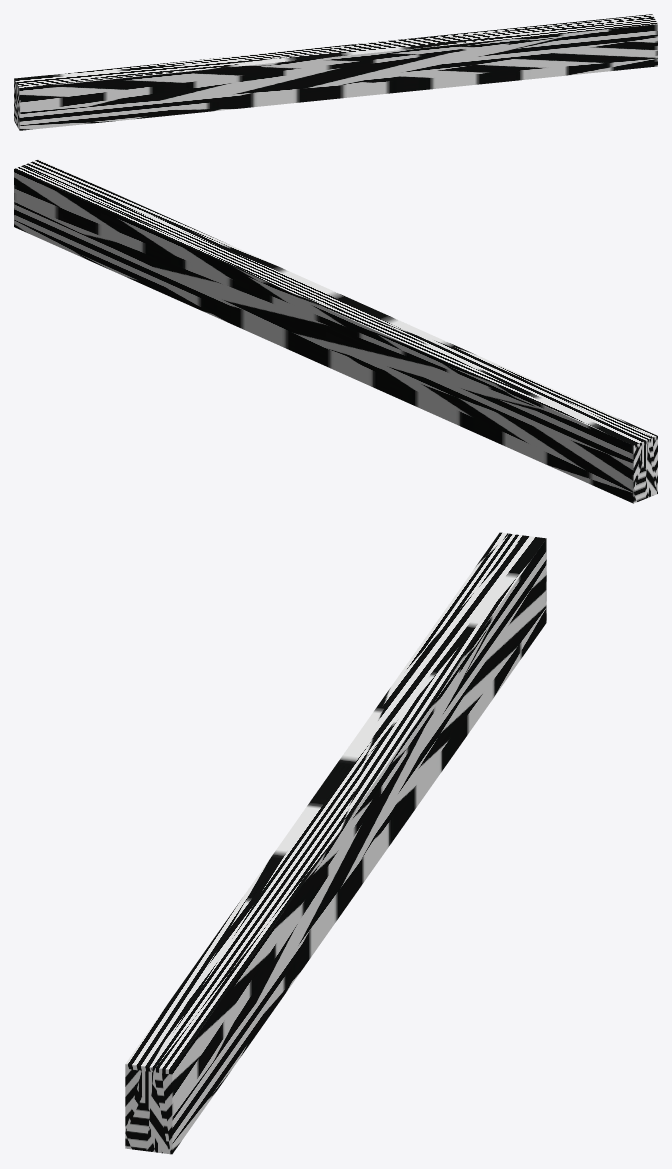
The picture shows the model from 3 angles, top to bottom: view 1: azimuth 30°, elevation 25°; view 2: azimuth 150°, elevation 25°; view 3: azimuth 270°, elevation 25°; orthographic projection. The views are drawn at different scales.
Parts seen in each view (by area): view 1: Cube.015; view 2: Cube.015; view 3: Cube.015.
Part boxes in pixels (<box>): Cube.015: <box>14,14,657,130</box>; Cube.015: <box>14,159,657,503</box>; Cube.015: <box>125,532,546,1154</box>.
Size of the model in its own units: 7.71 by 0.5648 by 2.55.
Materials: 1 (1 with a texture image).
